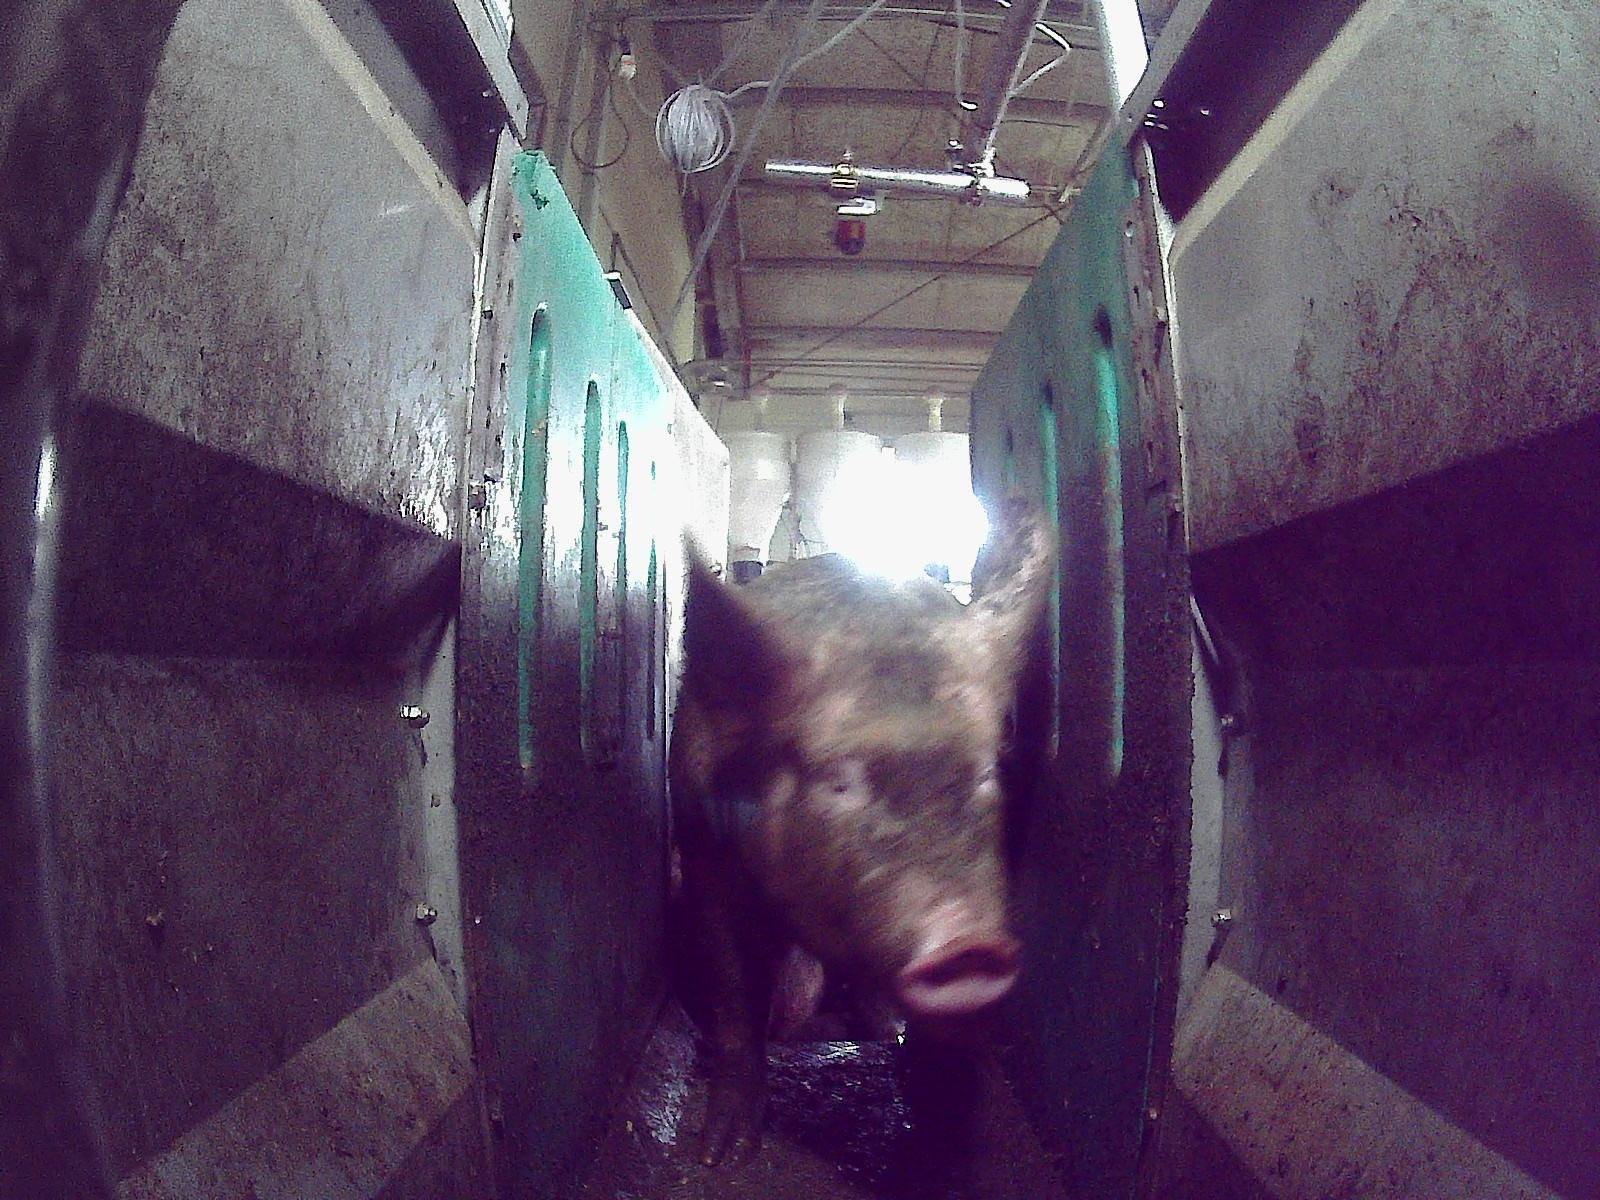Face: (737, 603, 1021, 1013)
